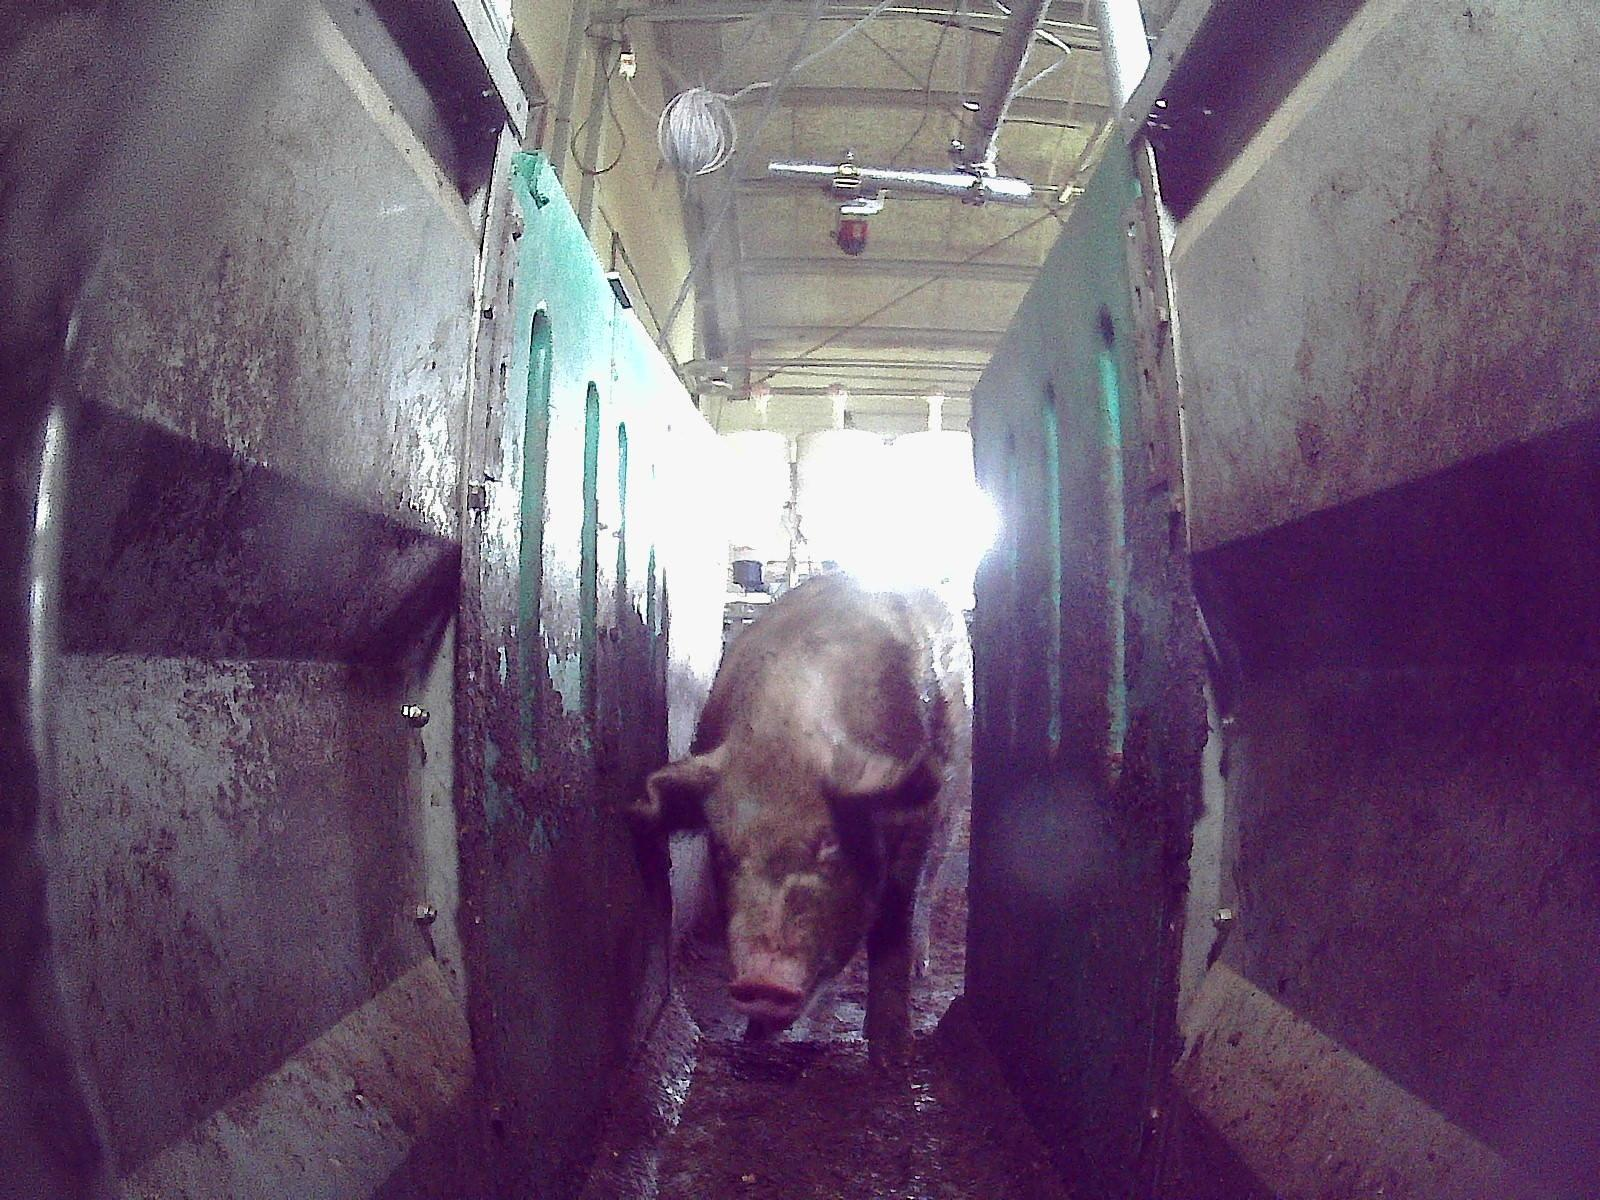Face: (695, 725, 875, 1018)
